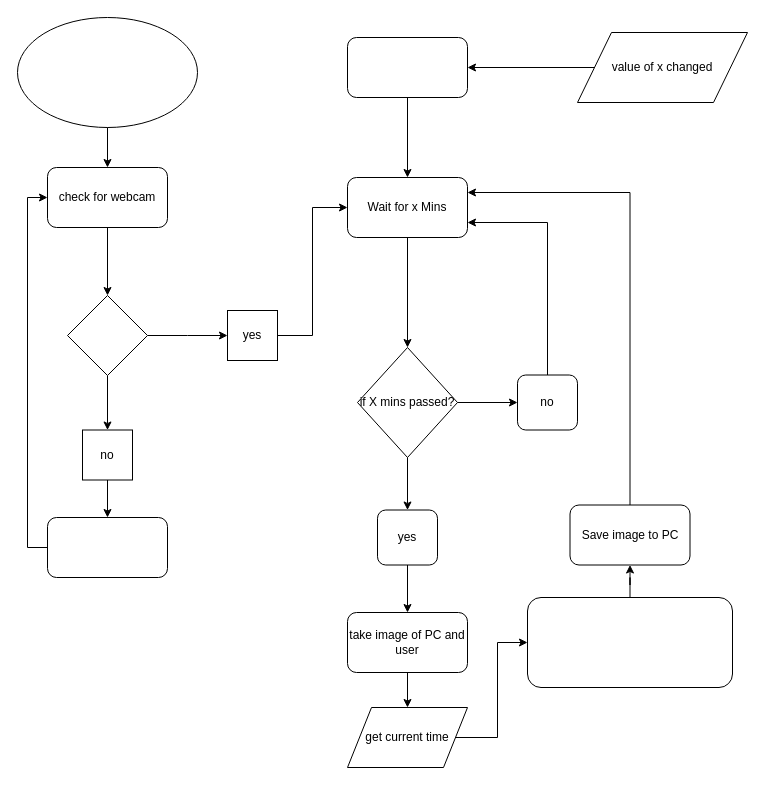
This 765x785 diagram has some shape labels left out. The centre of each missing label's shape, as x and y in pixels:
Program Opens: pixel 107 72
tell user about the webcam: pixel 107 547
update value: pixel 407 67
username will be current time + user PC pic will be current time +PC: pixel 629 642
webcam found?: pixel 107 335
